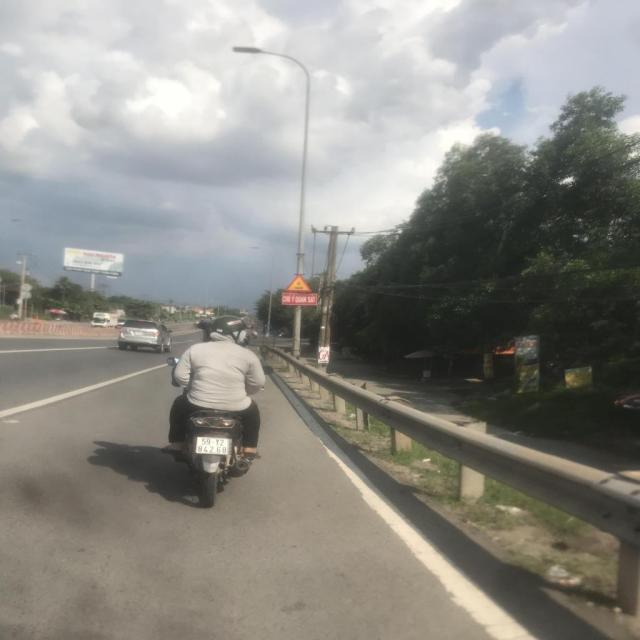di_cham: (285, 274, 313, 292)
